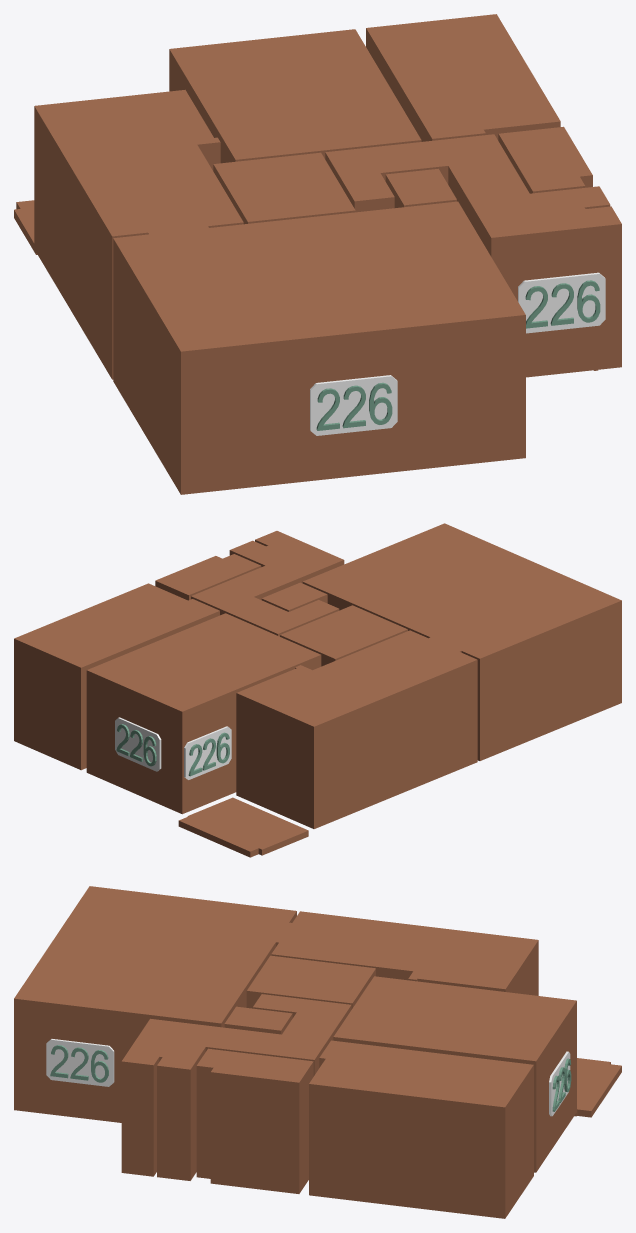
3 renders of one model, top to bottom at view 1: azimuth 30°, elevation 25°; view 2: azimuth 150°, elevation 25°; view 3: azimuth 270°, elevation 25°, orthographic. The views are drawn at different scales.
Visible parts, largest first — view 1: g_7, g_6, g_3, g_0, g_1, g_4, g_2, g_12, g_28, g_5, g_8; view 2: g_7, g_6, g_0, g_1, g_3, g_8, g_4, g_2, g_20, g_24, g_5; view 3: g_7, g_1, g_0, g_3, g_2, g_6, g_4, g_16, g_8, g_5, g_20.
Part boxes in pixels (bbox=[...]): g_7: bbox=[113, 201, 525, 494]; g_6: bbox=[34, 89, 243, 379]; g_3: bbox=[325, 134, 621, 377]; g_0: bbox=[169, 29, 421, 163]; g_1: bbox=[366, 14, 560, 141]; g_4: bbox=[213, 152, 355, 224]; g_2: bbox=[498, 126, 592, 193]; g_12: bbox=[310, 375, 397, 435]; g_28: bbox=[518, 272, 605, 333]; g_5: bbox=[385, 168, 456, 207]; g_8: bbox=[14, 200, 37, 254]; g_7: bbox=[302, 523, 621, 760]; g_6: bbox=[236, 630, 477, 828]; g_0: bbox=[86, 613, 321, 814]; g_1: bbox=[14, 583, 219, 770]; g_3: bbox=[191, 531, 344, 636]; g_8: bbox=[178, 797, 308, 857]; g_4: bbox=[280, 605, 407, 666]; g_2: bbox=[155, 554, 261, 600]; g_20: bbox=[115, 717, 161, 771]; g_24: bbox=[184, 726, 231, 779]; g_5: bbox=[261, 582, 327, 611]; g_7: bbox=[14, 886, 296, 1122]; g_1: bbox=[309, 1040, 533, 1218]; g_0: bbox=[333, 976, 576, 1172]; g_3: bbox=[121, 994, 351, 1180]; g_2: bbox=[196, 1048, 313, 1193]; g_6: bbox=[271, 911, 538, 995]; g_4: bbox=[246, 955, 375, 1009]; g_16: bbox=[46, 1039, 114, 1086]; g_8: bbox=[574, 1058, 621, 1117]; g_5: bbox=[224, 1006, 292, 1034]; g_20: bbox=[549, 1051, 570, 1116].
Bounding box in the file's own units: 10.96 × 2.74 × 12.73.
